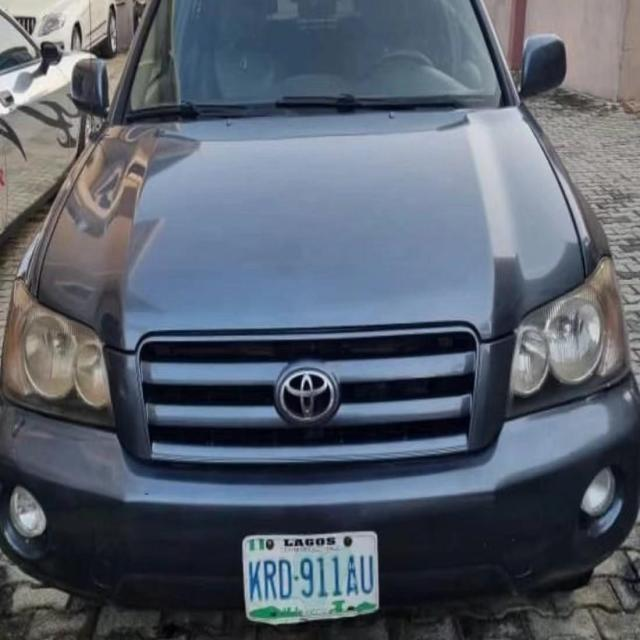Nigerian License Plate - vdataset benjamin-daria: (239, 529, 382, 628)
